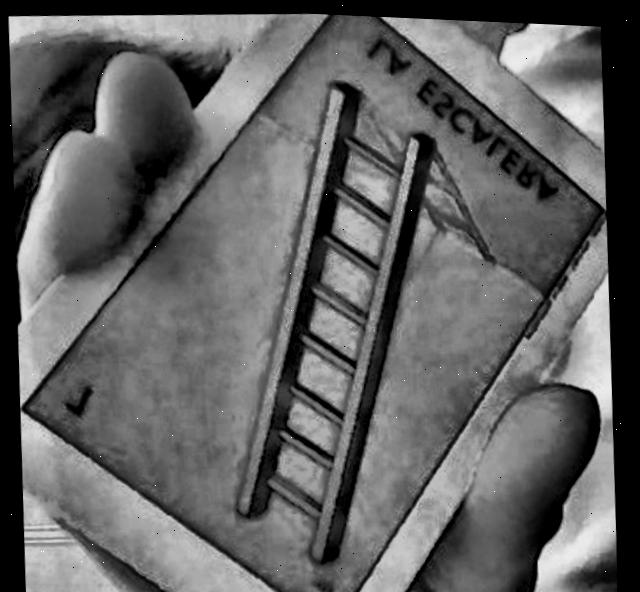La Escalera: (23, 11, 605, 592)
